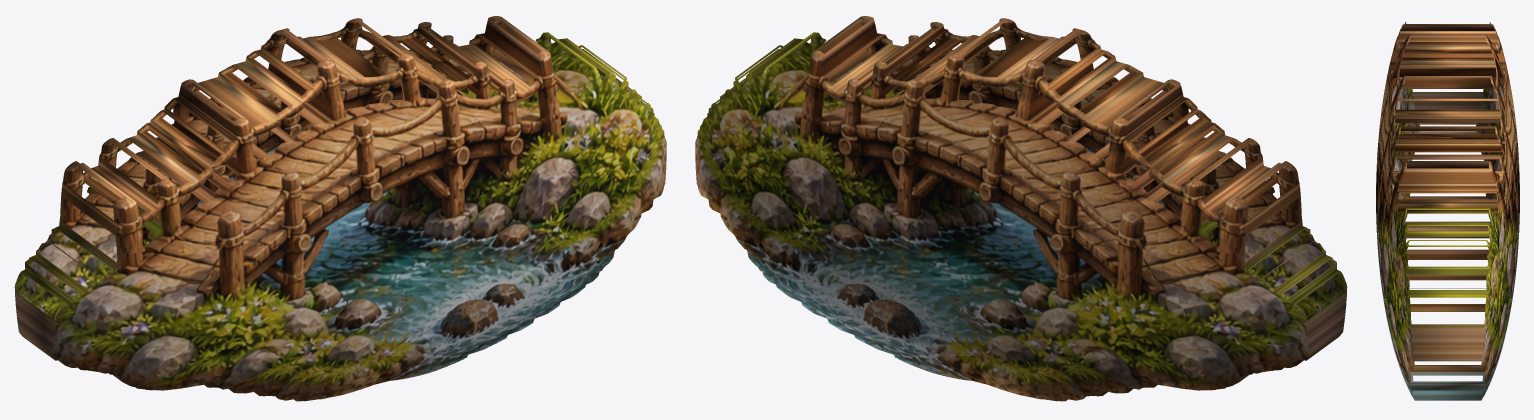
The picture shows the model from 3 angles, left to right: view 1: azimuth 30°, elevation 25°; view 2: azimuth 150°, elevation 25°; view 3: azimuth 270°, elevation 25°; orthographic projection. The views are drawn at different scales.
Parts seen in each view (by area): view 1: villages:6; view 2: villages:6; view 3: villages:6.
Part boxes in pixels (x1,y1,x2,y2): villages:6: (14, 16, 666, 401); villages:6: (695, 16, 1347, 401); villages:6: (1376, 22, 1519, 400).
Size of the model in its own units: 1.78 by 0.9444 by 0.42.
1 material, 1 textured.
